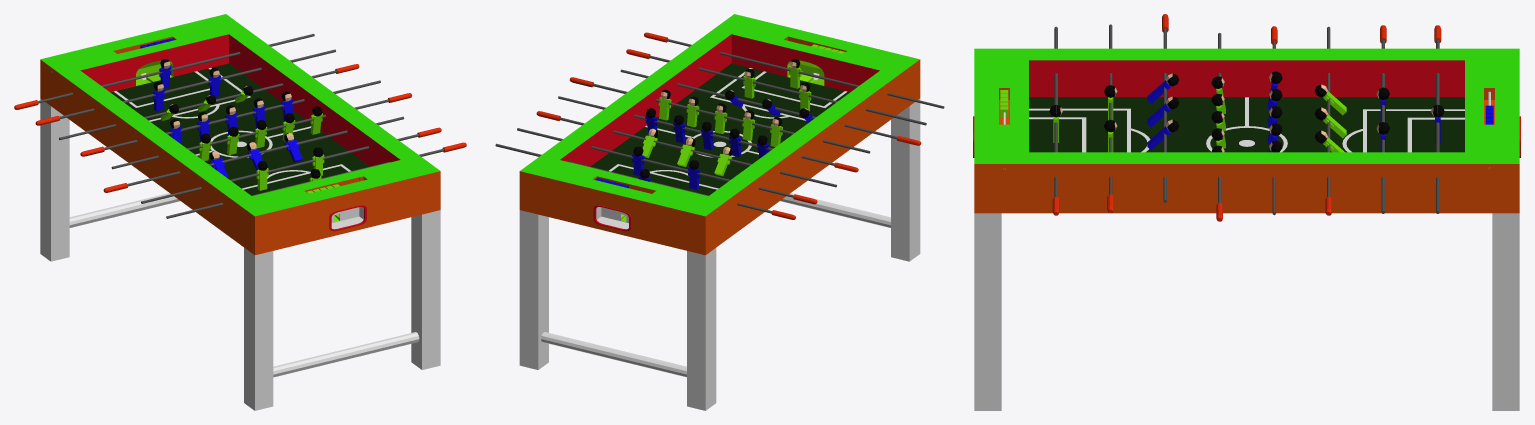
File: tischkicker.fbx
3 views of the same model, side by side, from view 1: azimuth 30°, elevation 25°; view 2: azimuth 150°, elevation 25°; view 3: azimuth 270°, elevation 25° (orthographic). The views are drawn at different scales.
Parts seen in each view (by area): view 1: Tisch; view 2: Tisch; view 3: Tisch.
Boxes of the visible parts, x1,y1,x2,y2 form: Tisch: (14, 14, 466, 410); Tisch: (495, 14, 944, 410); Tisch: (973, 14, 1520, 410).
Size of the model in its own units: 177 by 101 by 201.
